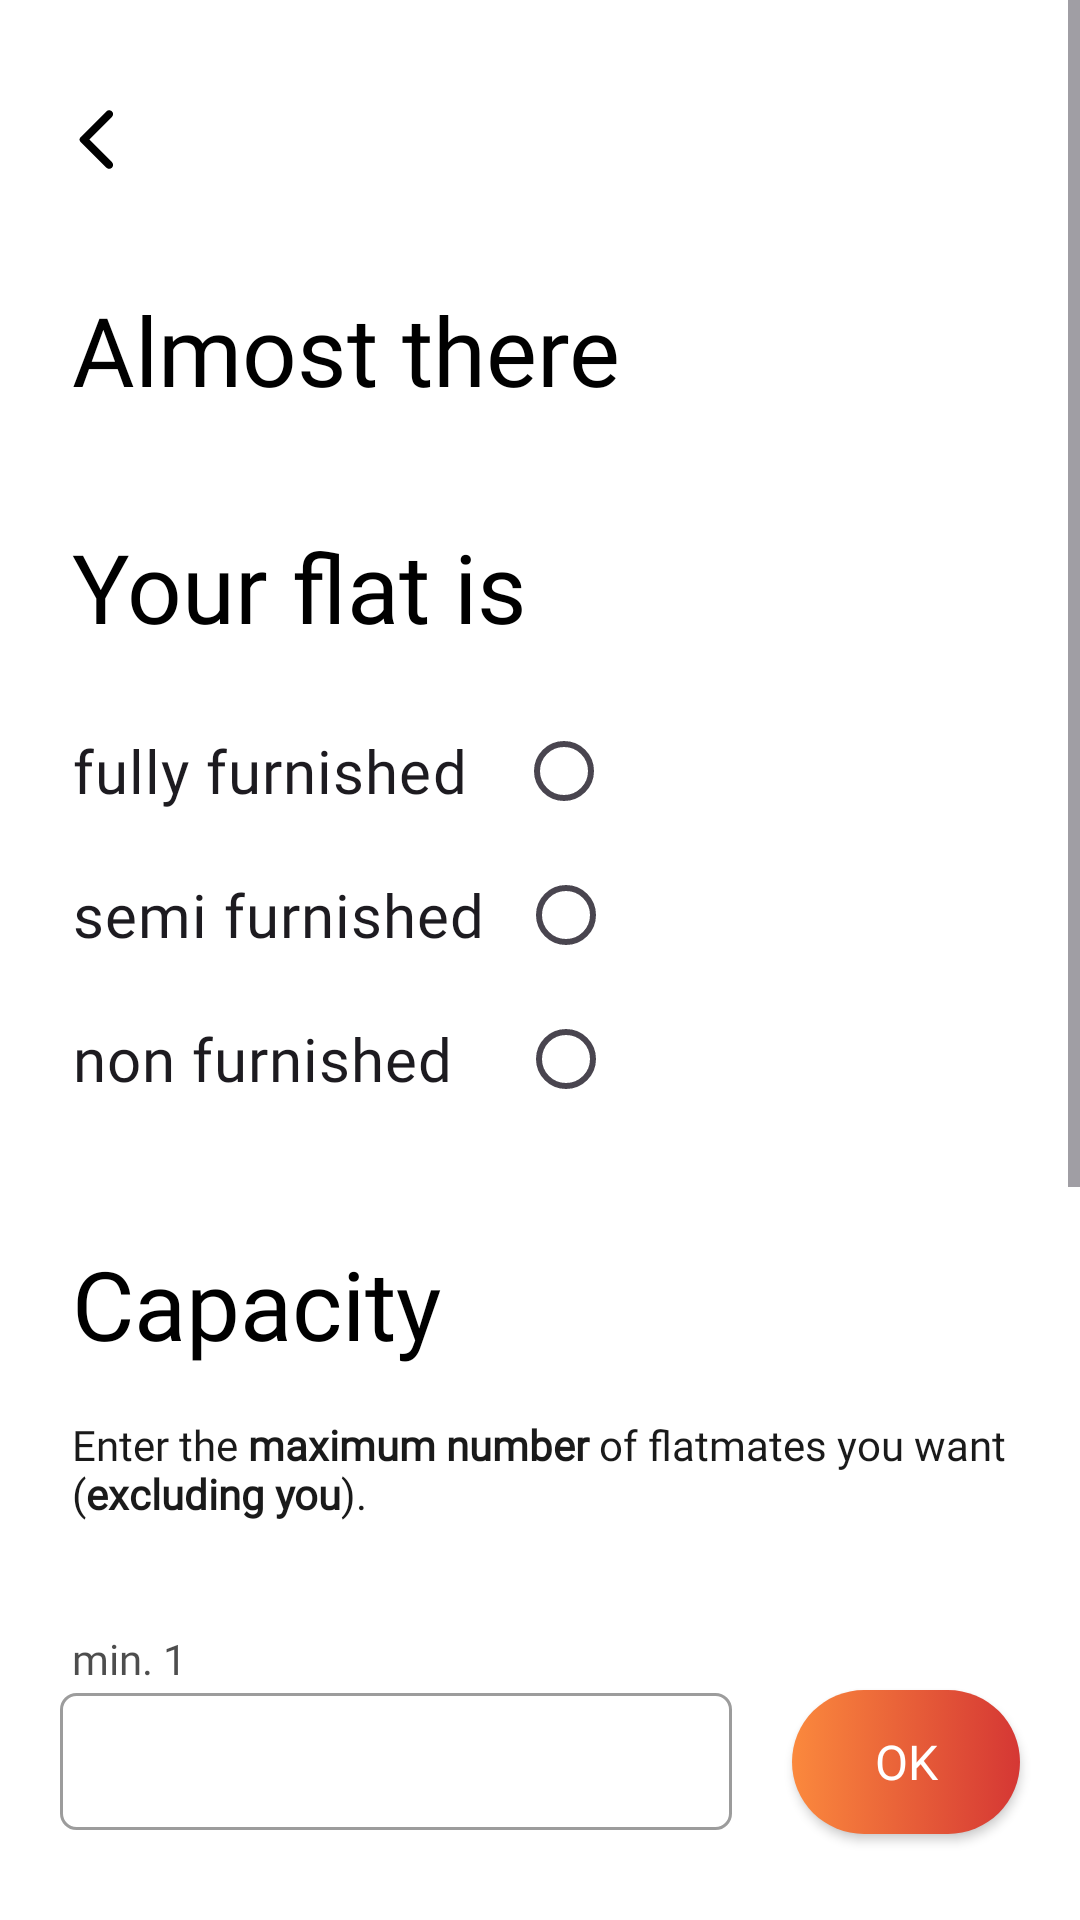

Point at icon controls on the screen. Image size 1080*1920, points as (x=x, y=y).
arrow back: (x=96, y=139)
